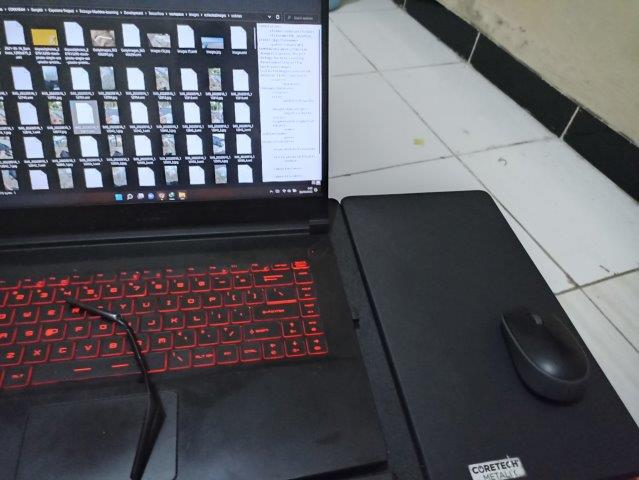sedotan: (69, 300, 156, 479)
